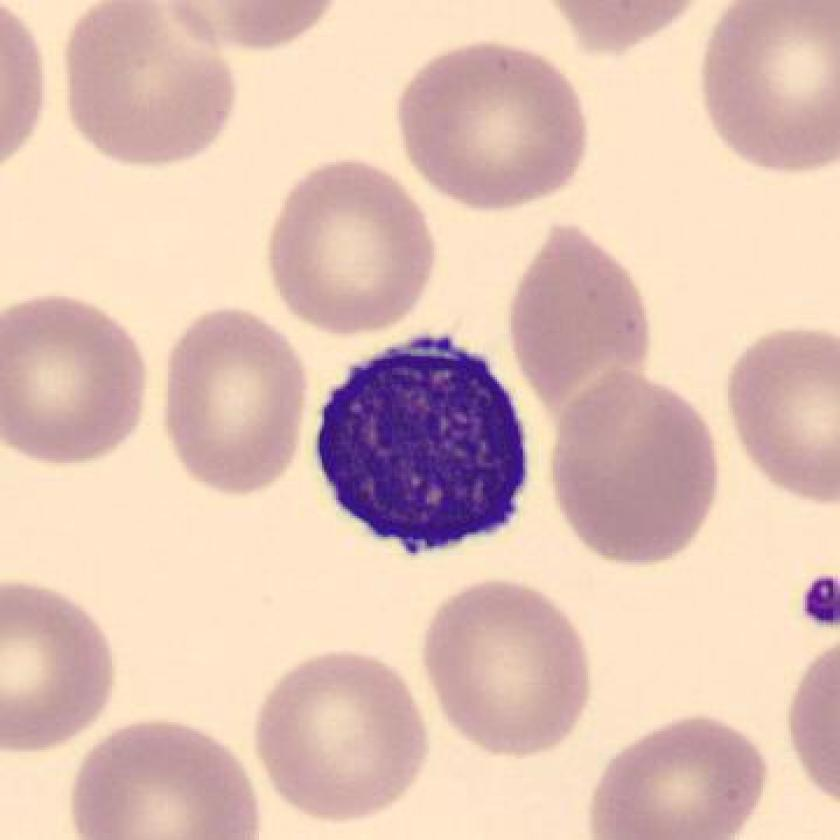lymphocyte: (300, 318, 545, 573)
